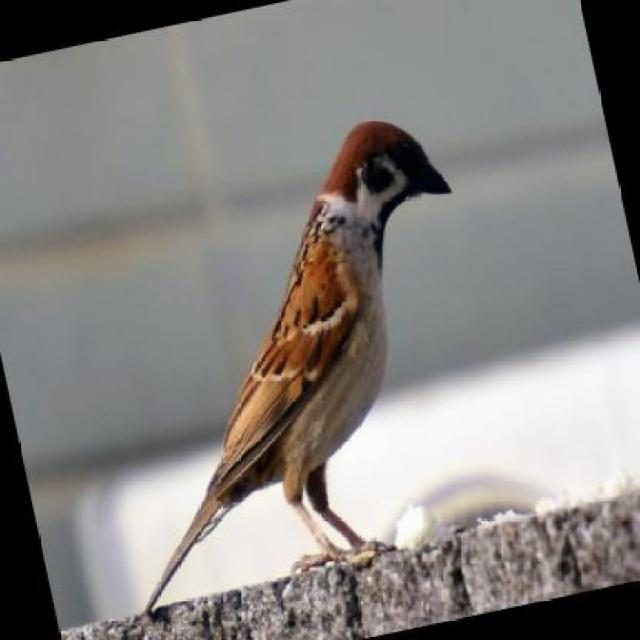Bird: (134, 107, 463, 622)
